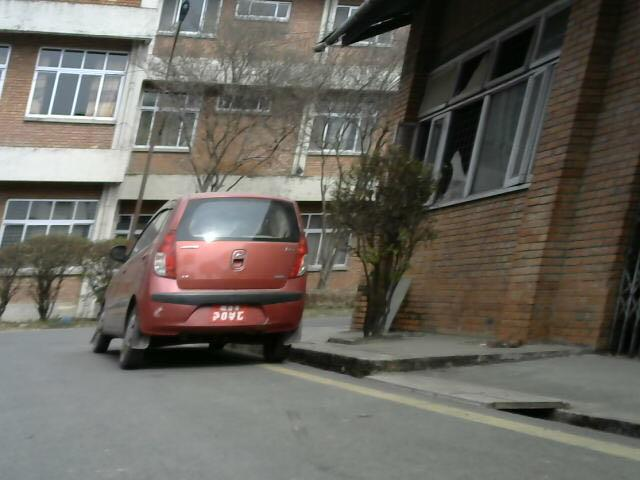Car: (0, 0, 636, 256), (88, 196, 308, 391)
Road: (0, 329, 494, 480)
